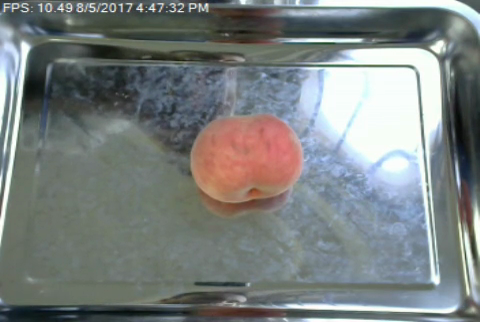Peach: (190, 113, 301, 204)
